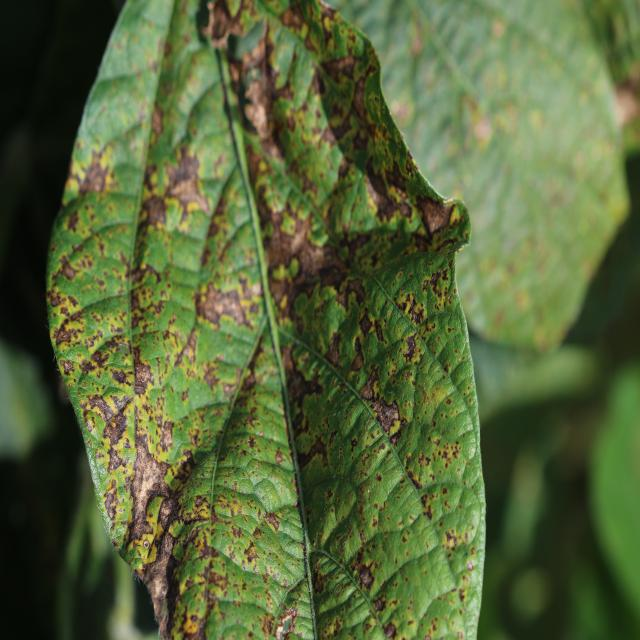Bacterial_Blight: (128, 434, 172, 539), (190, 279, 264, 339), (157, 143, 210, 218), (317, 54, 360, 131), (316, 7, 366, 64), (160, 556, 187, 638), (103, 466, 134, 530), (241, 82, 274, 141), (415, 193, 456, 239), (371, 185, 410, 227), (335, 278, 368, 327), (425, 436, 462, 477), (200, 1, 235, 43), (613, 79, 640, 131), (77, 155, 111, 196), (293, 363, 323, 409), (101, 404, 131, 448), (173, 324, 201, 369), (204, 560, 236, 598), (372, 397, 401, 435), (301, 433, 328, 470), (140, 193, 167, 227), (425, 267, 451, 299), (275, 606, 298, 637), (473, 113, 493, 144), (132, 359, 152, 389), (156, 419, 174, 452), (149, 104, 164, 140), (358, 374, 376, 402), (54, 323, 74, 347), (58, 257, 77, 282), (403, 332, 419, 361), (261, 509, 281, 532), (358, 564, 374, 590), (349, 349, 364, 374), (243, 543, 259, 566), (59, 358, 75, 377), (417, 452, 432, 469), (383, 621, 397, 639), (444, 530, 457, 549), (373, 596, 386, 612), (85, 417, 95, 432), (349, 435, 357, 451), (420, 493, 428, 507), (459, 588, 466, 601), (466, 559, 473, 571), (371, 517, 378, 528), (422, 279, 429, 290), (375, 473, 382, 482), (367, 488, 371, 495)
Soybean: (47, 0, 485, 640)
